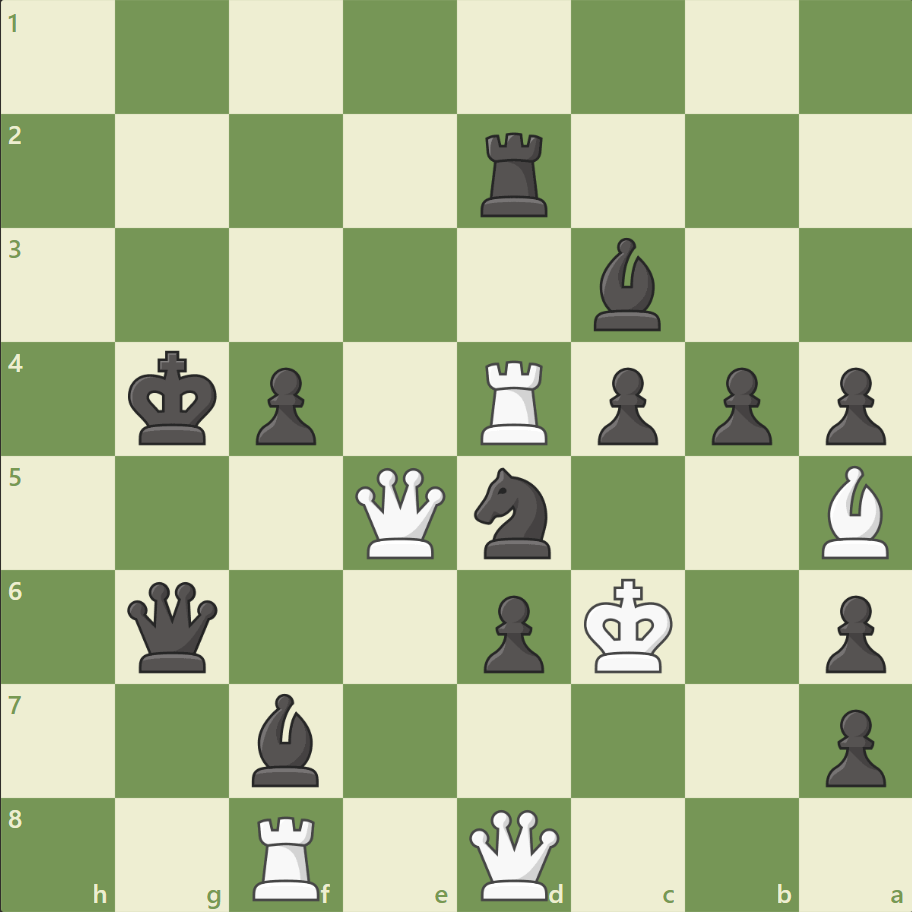B: (812, 460, 896, 563)
K: (579, 571, 679, 679)
Q: (464, 804, 563, 903), (351, 463, 450, 562)
R: (246, 806, 329, 904), (473, 352, 556, 449)
b: (244, 687, 328, 790), (585, 233, 669, 336)
k: (124, 344, 224, 452)
n: (465, 461, 562, 564)
p: (474, 586, 549, 677), (701, 359, 776, 450), (247, 359, 322, 450), (815, 700, 889, 791), (815, 586, 889, 677), (815, 359, 889, 450), (588, 359, 662, 450)
q: (124, 576, 223, 676)
r: (473, 125, 556, 222)
